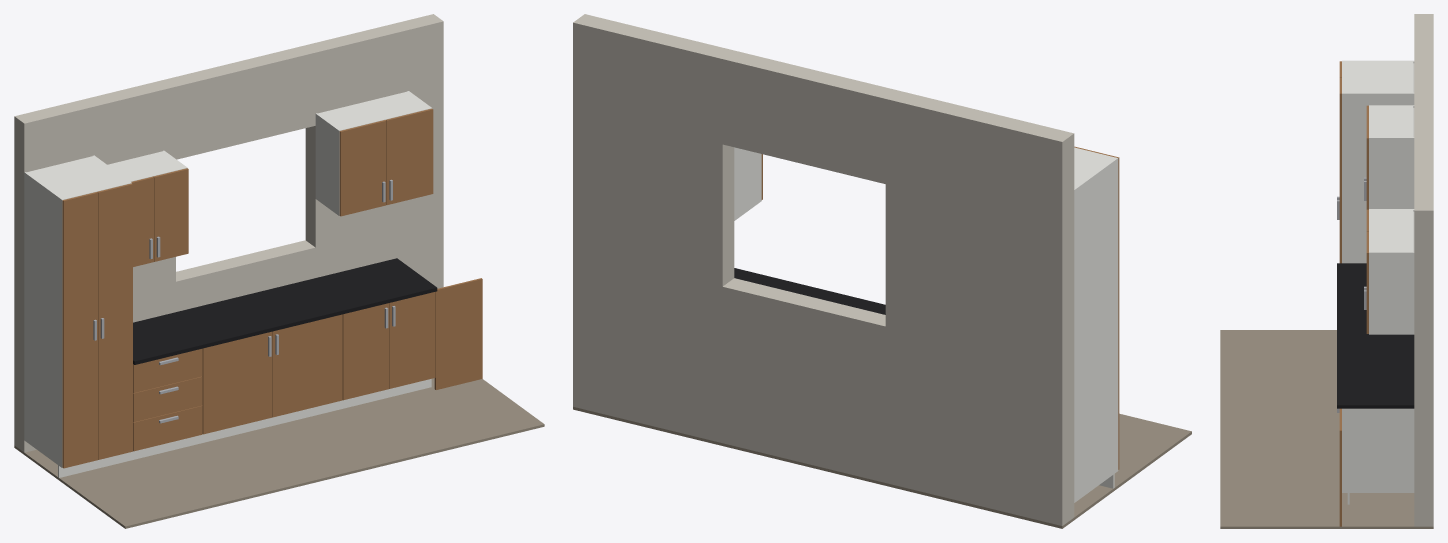
Rendered from Cozinha_Linear_3600.dae.
3 renders of one model, left to right at view 1: azimuth 30°, elevation 25°; view 2: azimuth 150°, elevation 25°; view 3: azimuth 270°, elevation 25°, orthographic. The views are drawn at different scales.
Visible parts, largest first — view 1: Piso, Parede_4, M01_tall_cabinet, Parede_1, M02_drawer_cabinet_Tampo, M03_sink_cabinet, Parede_3, M01_tall_cabinet_Lateral_Esquerda, M07_wall_cabinet, M04_base_cabinet, M02_drawer_cabinet, Parede_2 (+10 smaller); view 2: Parede_1, Parede_4, Parede_2, Parede_3, M01_tall_cabinet_Lateral_Esquerda, Piso, M07_wall_cabinet_Lateral_Esquerda, M02_drawer_cabinet_Tampo, M01_tall_cabinet_Tampo_Interno; view 3: Piso, M02_drawer_cabinet_Tampo, Parede_4, M04_base_cabinet_Lateral_Direita, M01_tall_cabinet_Lateral_Direita, M07_wall_cabinet_Lateral_Direita, M06_wall_cabinet_Lateral_Direita, M01_tall_cabinet_Tampo_Interno, M07_wall_cabinet_Tampo_Interno, M06_wall_cabinet_Tampo_Interno, Parede_1, Parede_3 (+4 smaller).
Part boxes in pixels (left/top/right/bottom): Piso: left=14, top=378, right=544, bottom=528; Parede_4: left=305, top=14, right=443, bottom=288; M01_tall_cabinet: left=62, top=183, right=132, bottom=468; Parede_1: left=14, top=79, right=175, bottom=452; M02_drawer_cabinet_Tampo: left=133, top=258, right=437, bottom=364; M03_sink_cabinet: left=202, top=314, right=342, bottom=434; Parede_3: left=166, top=45, right=315, bottom=159; M01_tall_cabinet_Lateral_Esquerda: left=24, top=172, right=63, bottom=467; M07_wall_cabinet: left=339, top=108, right=433, bottom=216; M04_base_cabinet: left=342, top=292, right=435, bottom=400; M02_drawer_cabinet: left=133, top=348, right=202, bottom=451; Parede_2: left=176, top=240, right=315, bottom=311; Parede_1: left=885, top=90, right=1074, bottom=525; Parede_4: left=573, top=14, right=734, bottom=442; Parede_2: left=722, top=278, right=885, bottom=482; Parede_3: left=722, top=50, right=896, bottom=183; M01_tall_cabinet_Lateral_Esquerda: left=1074, top=157, right=1118, bottom=502; Piso: left=573, top=407, right=1191, bottom=528; M07_wall_cabinet_Lateral_Esquerda: left=734, top=147, right=761, bottom=220; M02_drawer_cabinet_Tampo: left=734, top=268, right=885, bottom=314; M01_tall_cabinet_Tampo_Interno: left=1074, top=147, right=1115, bottom=187; Piso: left=1220, top=330, right=1433, bottom=528; M02_drawer_cabinet_Tampo: left=1337, top=263, right=1414, bottom=408; Parede_4: left=1414, top=150, right=1433, bottom=526; M04_base_cabinet_Lateral_Direita: left=1342, top=408, right=1414, bottom=492; M01_tall_cabinet_Lateral_Direita: left=1342, top=92, right=1414, bottom=263; M07_wall_cabinet_Lateral_Direita: left=1369, top=252, right=1414, bottom=334; M06_wall_cabinet_Lateral_Direita: left=1369, top=137, right=1414, bottom=208; M01_tall_cabinet_Tampo_Interno: left=1342, top=61, right=1413, bottom=92; M07_wall_cabinet_Tampo_Interno: left=1369, top=210, right=1413, bottom=251; M06_wall_cabinet_Tampo_Interno: left=1369, top=106, right=1413, bottom=137; Parede_1: left=1414, top=14, right=1433, bottom=84; Parede_3: left=1414, top=85, right=1433, bottom=150.
Size of the model in its own units: 3600 by 1650 by 2720.
